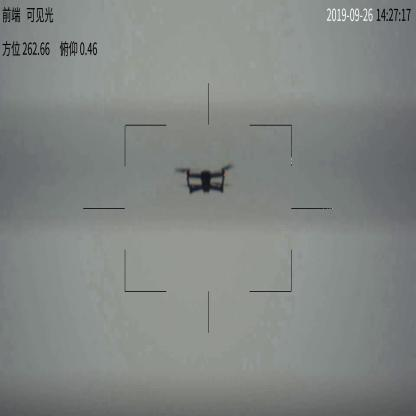uav: (174, 165, 235, 194)
